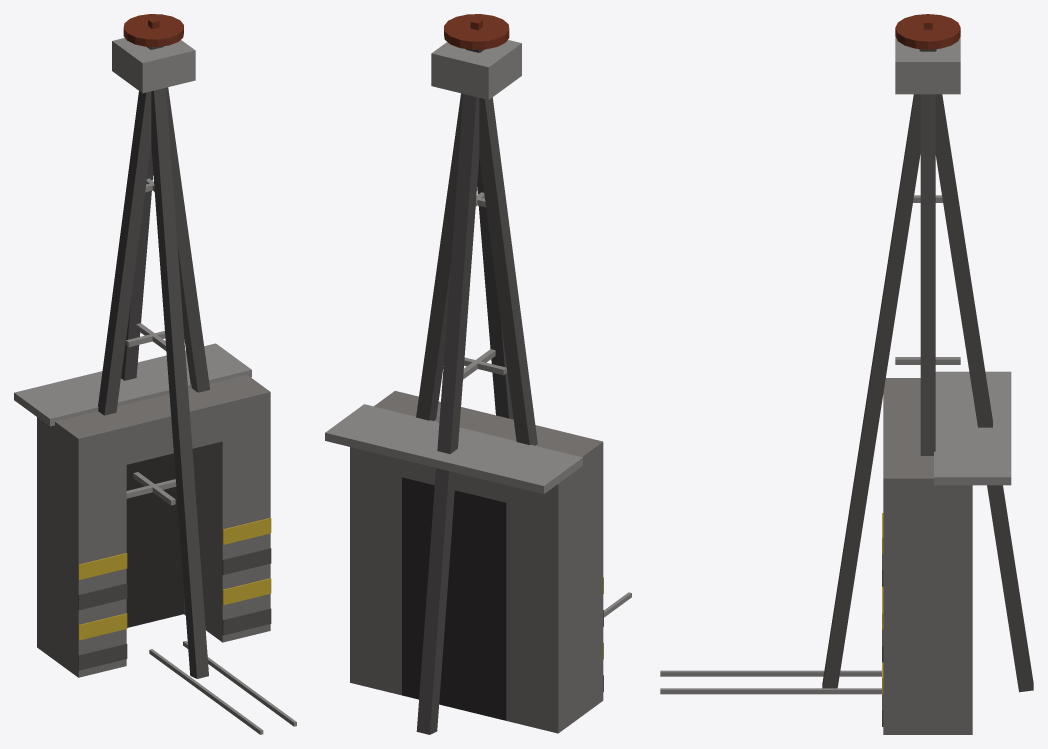
The model's file is B_headframe.glb.
The picture shows the model from 3 angles, left to right: view 1: azimuth 30°, elevation 25°; view 2: azimuth 150°, elevation 25°; view 3: azimuth 270°, elevation 25°; orthographic projection. The views are drawn at different scales.
Visible parts, largest first — view 1: Cube, Cube.010, Cube.005, Cube.015, Cube.011, Cube.014, Cube.012, Cube.016, Cube.023, Cube.013, Cylinder, Cube.025 (+9 smaller); view 2: Cube, Cube.011, Cube.013, Cube.005, Cube.012, Cube.010, Cube.014, Cube.016, Cube.023, Cube.015, Cylinder; view 3: Cube.005, Cube.015, Cube.013, Cube.012, Cube.010, Cube.016, Cube.023, Cylinder, Cube.026, Cube.025.
Boxes of the visible parts, x1=… form: Cube: x1=37, y1=446, x2=126, y2=677; Cube.010: x1=37, y1=375, x2=270, y2=476; Cube.005: x1=184, y1=430, x2=270, y2=642; Cube.015: x1=151, y1=88, x2=208, y2=678; Cube.011: x1=126, y1=453, x2=183, y2=627; Cube.014: x1=98, y1=91, x2=151, y2=415; Cube.012: x1=14, y1=343, x2=251, y2=426; Cube.016: x1=146, y1=46, x2=210, y2=392; Cube.023: x1=112, y1=38, x2=195, y2=93; Cube.013: x1=121, y1=46, x2=163, y2=380; Cylinder: x1=123, y1=14, x2=183, y2=46; Cube.025: x1=149, y1=649, x2=263, y2=734; Cube: x1=506, y1=483, x2=603, y2=733; Cube.011: x1=402, y1=477, x2=506, y2=720; Cube.013: x1=416, y1=94, x2=479, y2=734; Cube.005: x1=350, y1=464, x2=401, y2=695; Cube.012: x1=325, y1=404, x2=582, y2=494; Cube.010: x1=350, y1=391, x2=603, y2=515; Cube.014: x1=479, y1=97, x2=537, y2=445; Cube.016: x1=416, y1=49, x2=483, y2=420; Cube.023: x1=431, y1=40, x2=521, y2=99; Cube.015: x1=466, y1=49, x2=513, y2=419; Cylinder: x1=444, y1=14, x2=509, y2=49; Cube.005: x1=883, y1=519, x2=972, y2=734; Cube.015: x1=822, y1=49, x2=936, y2=688; Cube.013: x1=919, y1=49, x2=1033, y2=692; Cube.012: x1=934, y1=371, x2=1011, y2=485; Cube.010: x1=883, y1=378, x2=972, y2=519; Cube.016: x1=920, y1=94, x2=935, y2=455; Cube.023: x1=895, y1=36, x2=960, y2=94; Cylinder: x1=895, y1=14, x2=960, y2=49; Cube.026: x1=660, y1=688, x2=881, y2=694; Cube.025: x1=660, y1=670, x2=881, y2=676.
Size of the model in its own units: 8.4 by 24.77 by 12.55.
